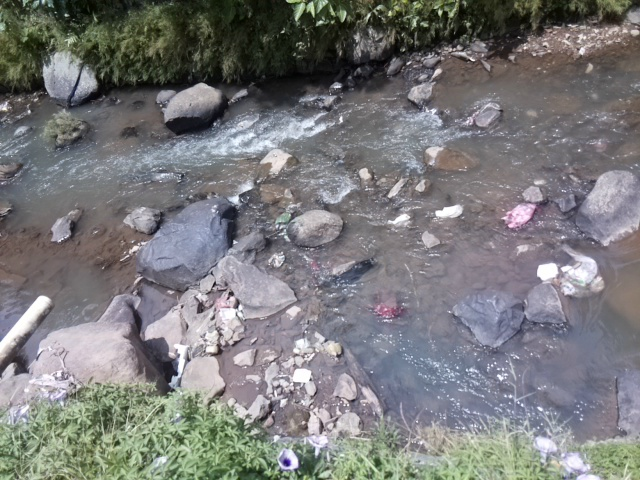Sampah_Plastik: (562, 248, 600, 295), (503, 199, 536, 231), (376, 300, 403, 317), (212, 295, 230, 310)
Sampah_Styrofoam: (535, 262, 558, 282), (434, 206, 459, 218)
